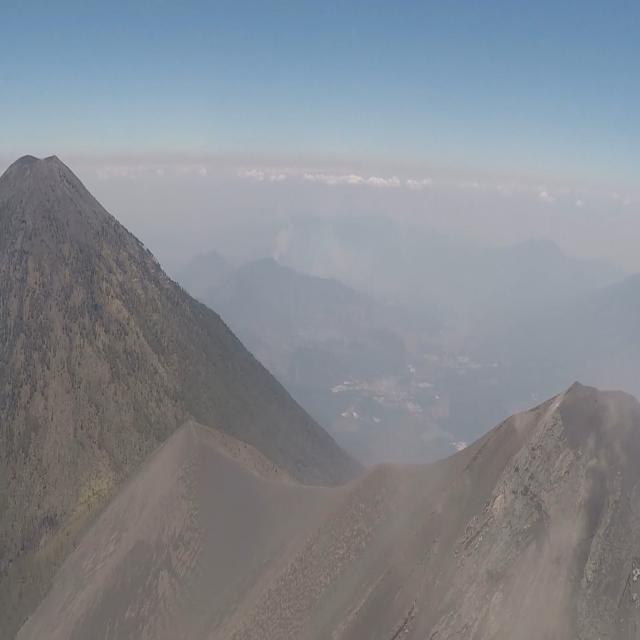Summit: (349, 334, 640, 640)
